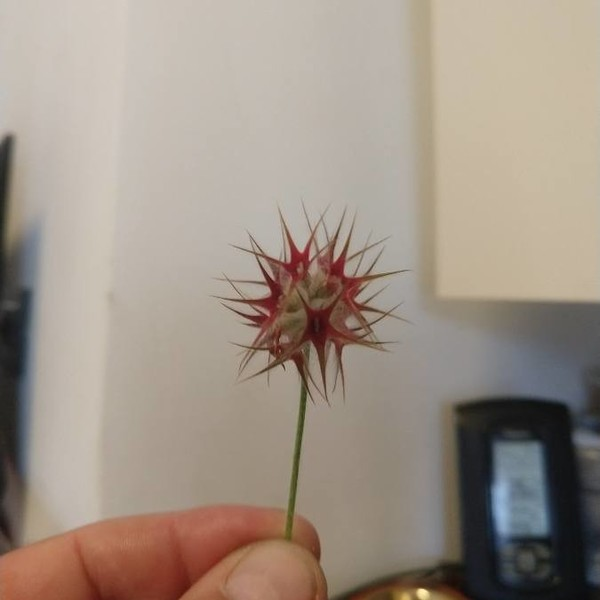obstacle: (227, 207, 392, 529)
